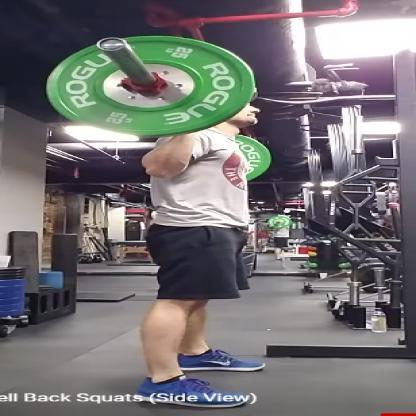Barbell: (98, 37, 131, 54)
